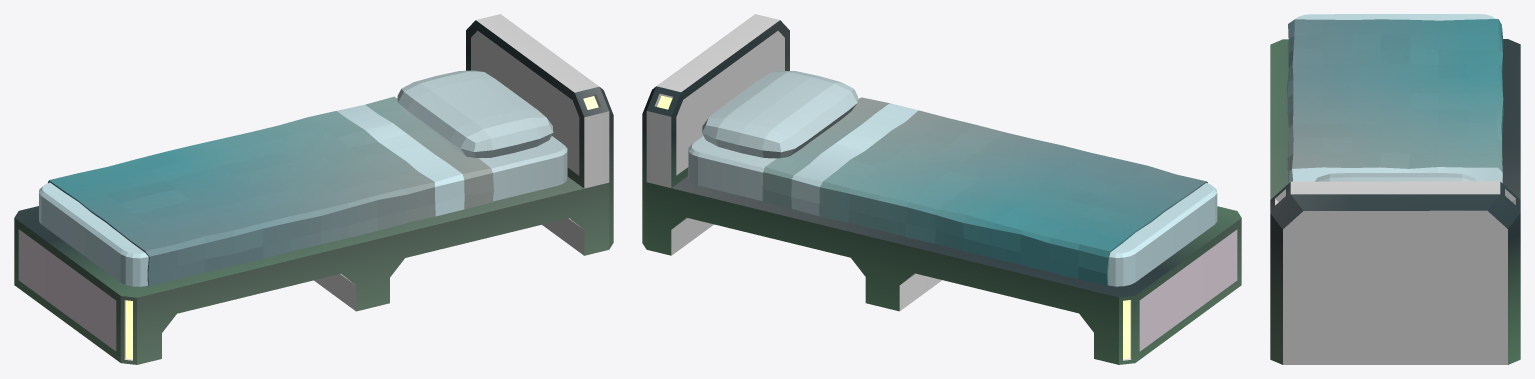
The model's file is Bed2.fbx.
The picture shows the model from 3 angles, left to right: view 1: azimuth 30°, elevation 25°; view 2: azimuth 150°, elevation 25°; view 3: azimuth 270°, elevation 25°; orthographic projection. The views are drawn at different scales.
Visible parts, largest first — view 1: Bed2; view 2: Bed2; view 3: Bed2.
Part boxes in pixels (x1,y1,x2,y2): Bed2: (14,14,613,364); Bed2: (642,14,1241,364); Bed2: (1270,14,1520,364).
Bounding box in the file's own units: 231 × 69.91 × 95.99.
